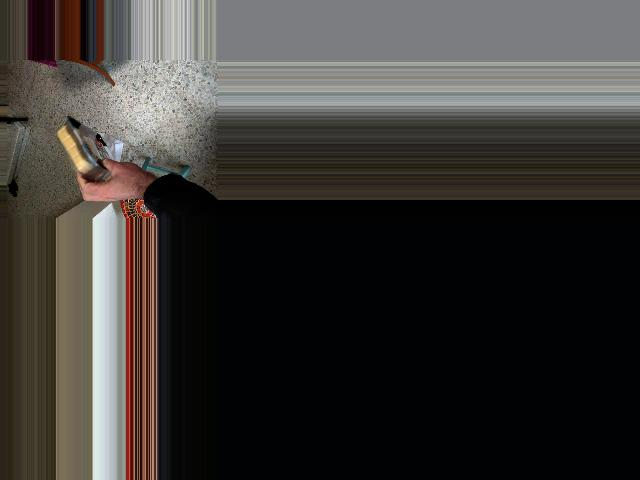cheese: (43, 103, 129, 211)
